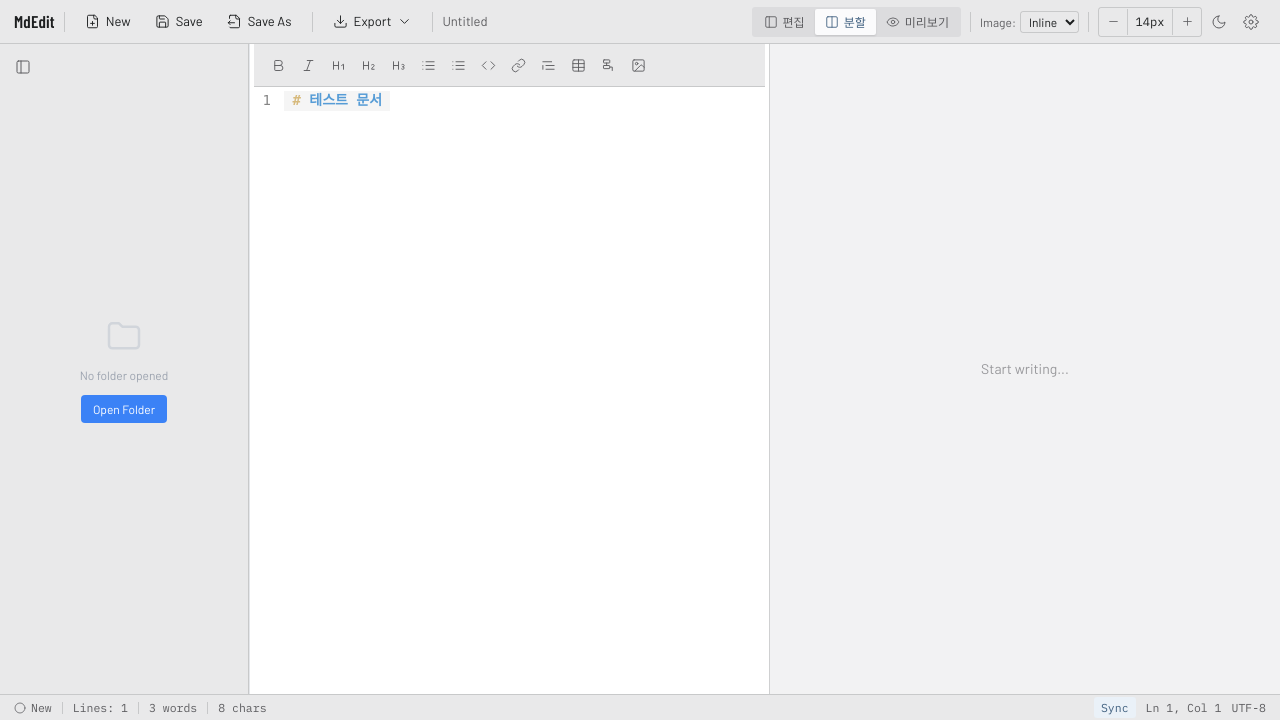
Test: SPEC-EXPORT-002: 내보내기 완료 모달 › AC-007: 닫기 액션 → open/reveal 모두 0회, 모달 닫힘
Click the button "Export": {"x": 372, "y": 22} [322,6,423,36]
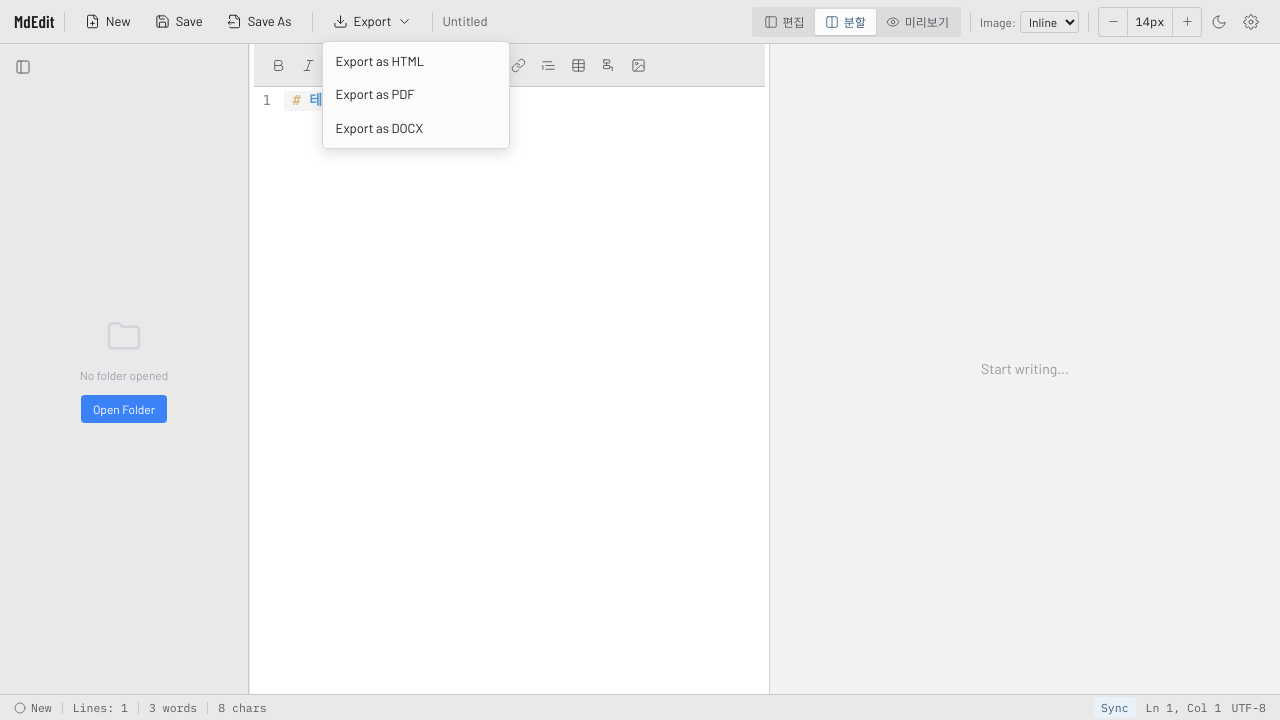
Click the menu item "Export as HTML": {"x": 416, "y": 61} [326,44,506,78]
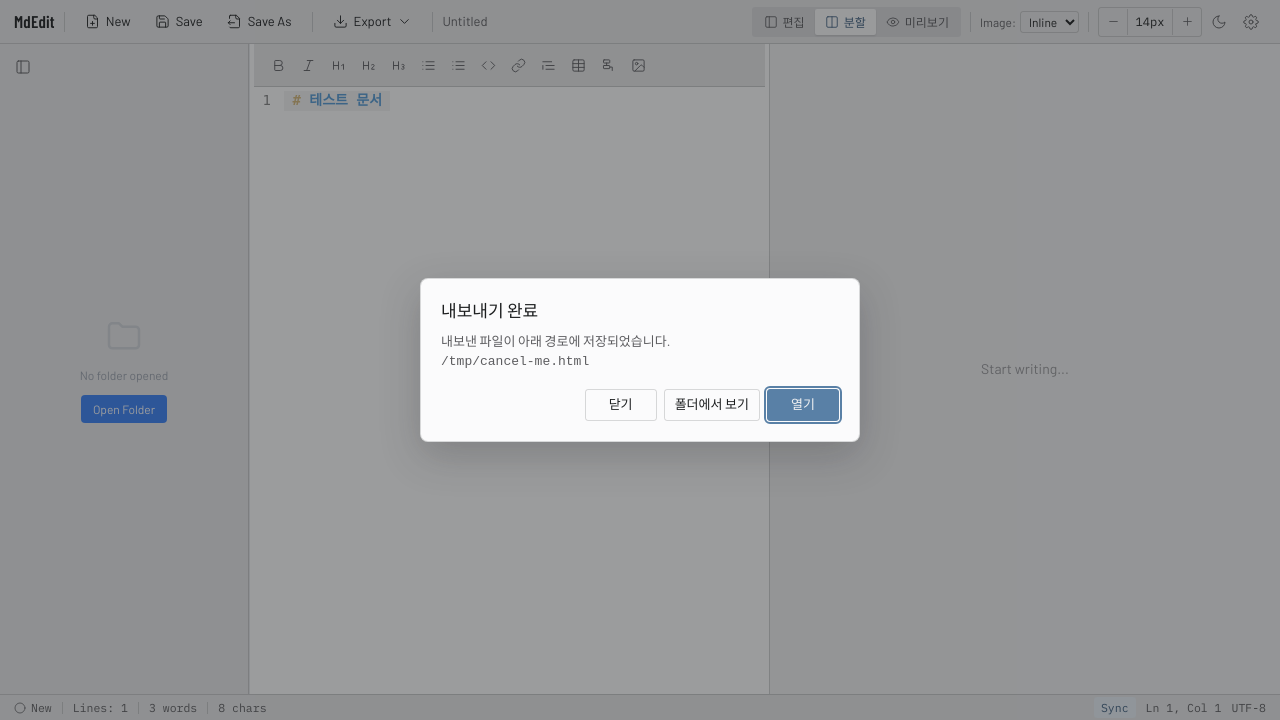
Result: the dialog is shown at [420,278,860,442]
Click the button with test id "dialog-action-cancel": {"x": 621, "y": 404} [585,388,657,420]
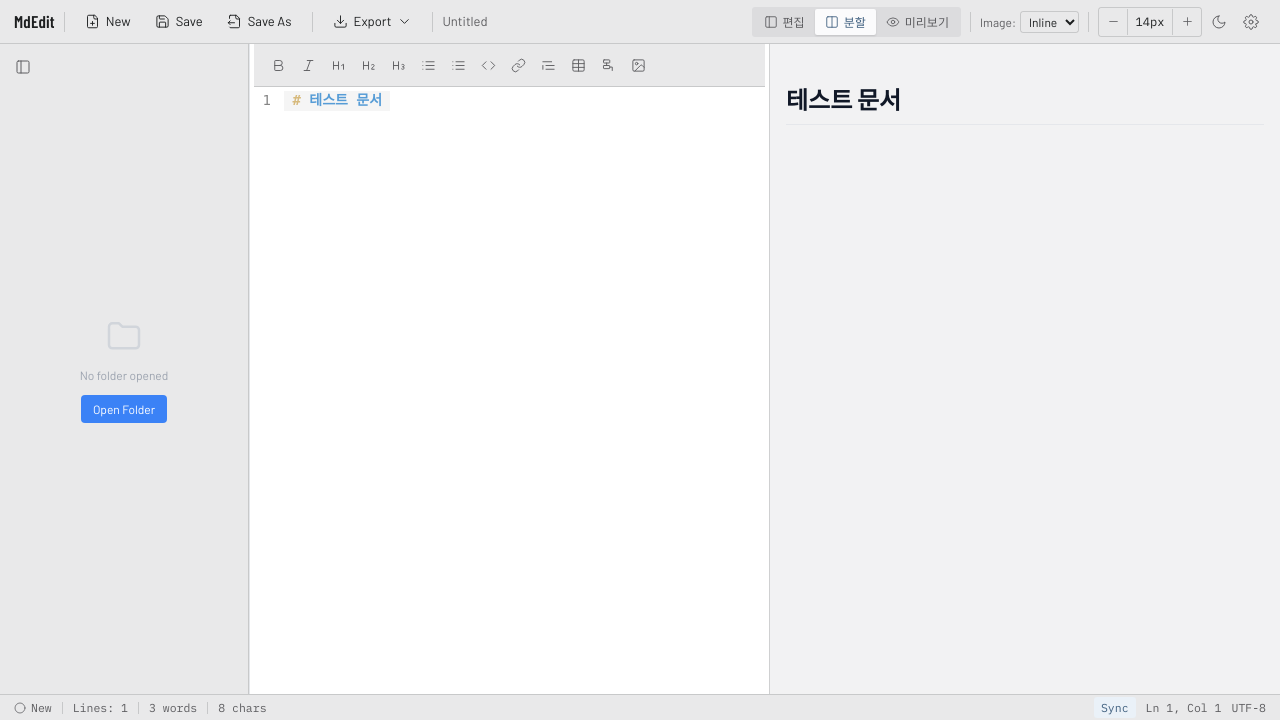
Result: the dialog is gone
